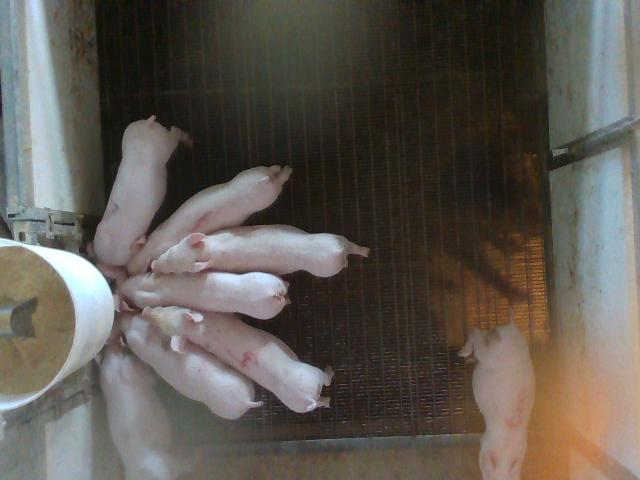pig-1: (129, 165, 291, 274)
pig-3: (462, 322, 535, 478)
pig-4: (142, 306, 334, 412)
